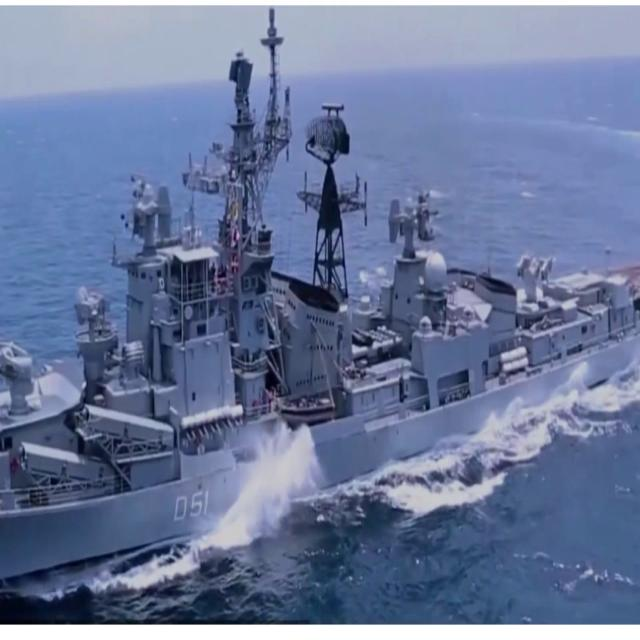OCR: (164, 479, 215, 530)
